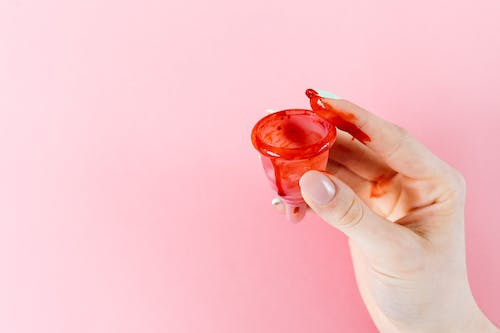blood: (249, 106, 338, 222), (304, 87, 395, 198)
